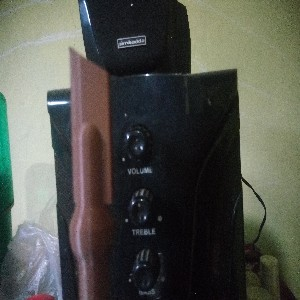cutter: (68, 45, 114, 300)
